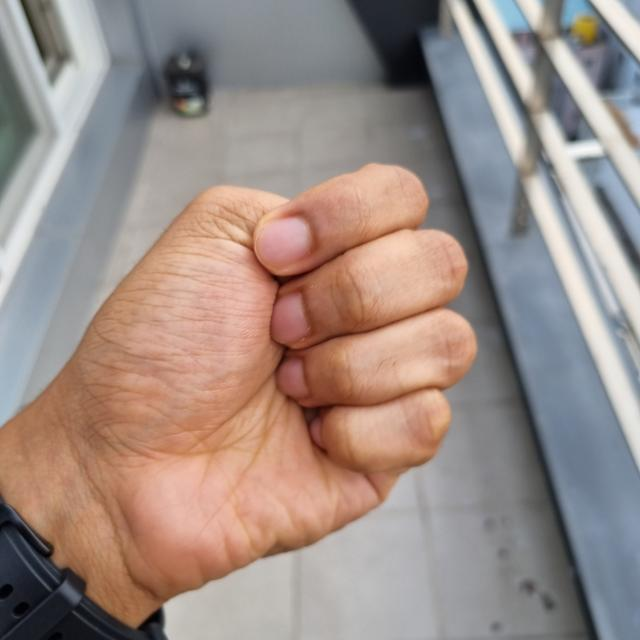Rock: (0, 164, 476, 610)
